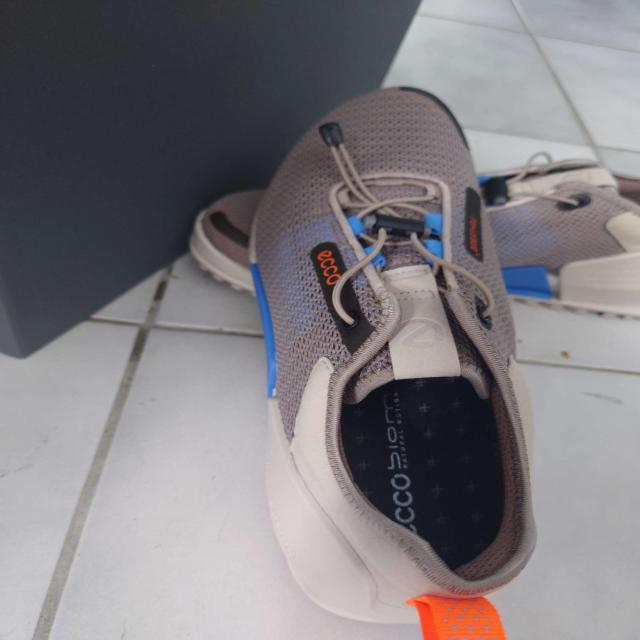shoe: (246, 84, 541, 626)
